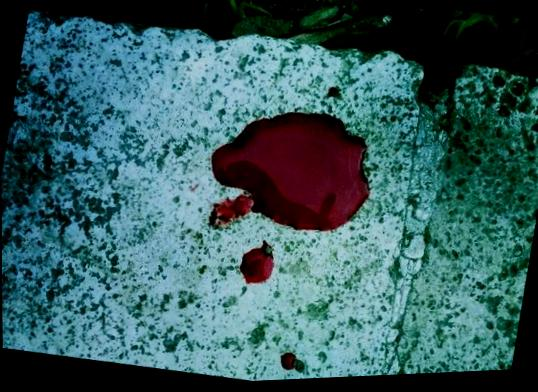Fire: (208, 114, 368, 231), (239, 242, 272, 285), (279, 355, 295, 373)
